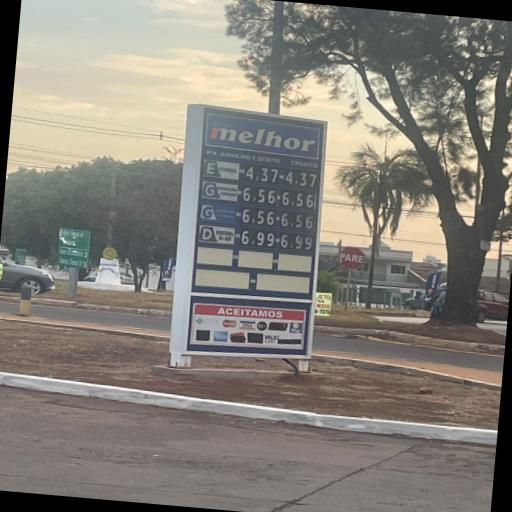ETANOL: (203, 160, 241, 180)
GASOLINA AD: (201, 203, 236, 224)
GASOLINA C: (204, 181, 240, 200)
S10: (199, 225, 236, 244)
placa: (190, 108, 324, 259)
preco: (239, 228, 277, 250), (246, 163, 281, 186), (240, 206, 277, 227), (242, 185, 277, 205)
